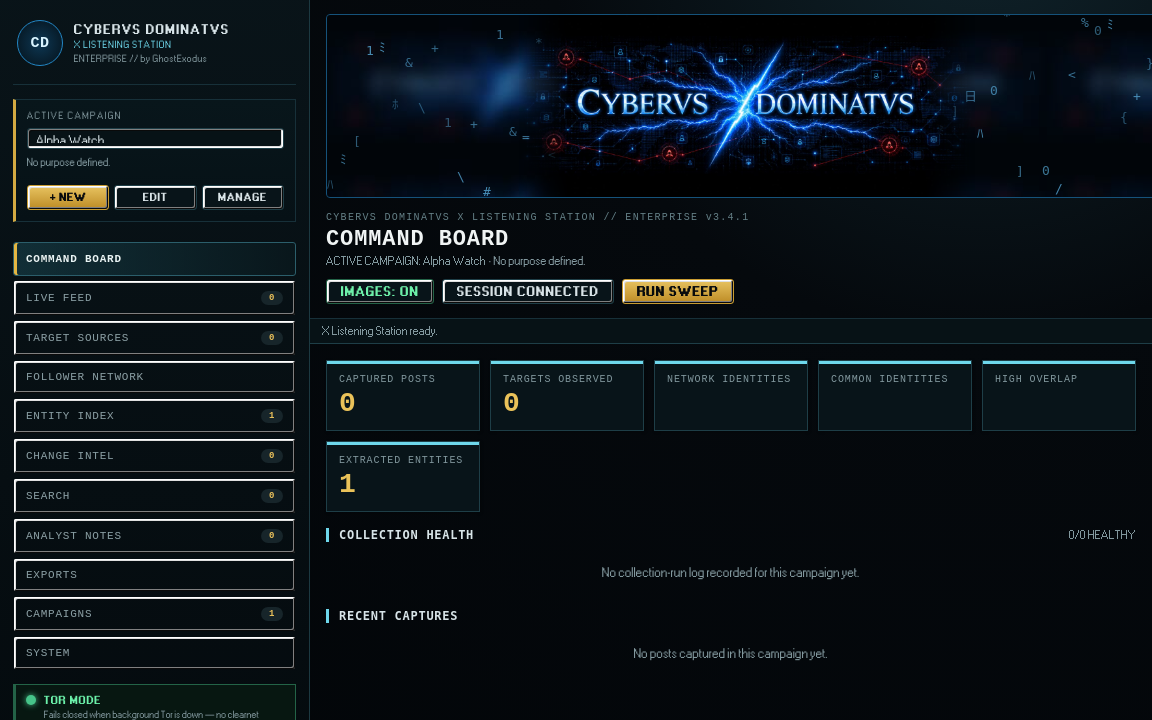
it: X Listening ENTITY INDEX — display pics › FETCH DISPLAY PICS runs the pass and reports what happened
Click the button with class "xls-tab" showing "ENTITY INDEX 1".
click(70, 416)  # box [13,398,296,434]
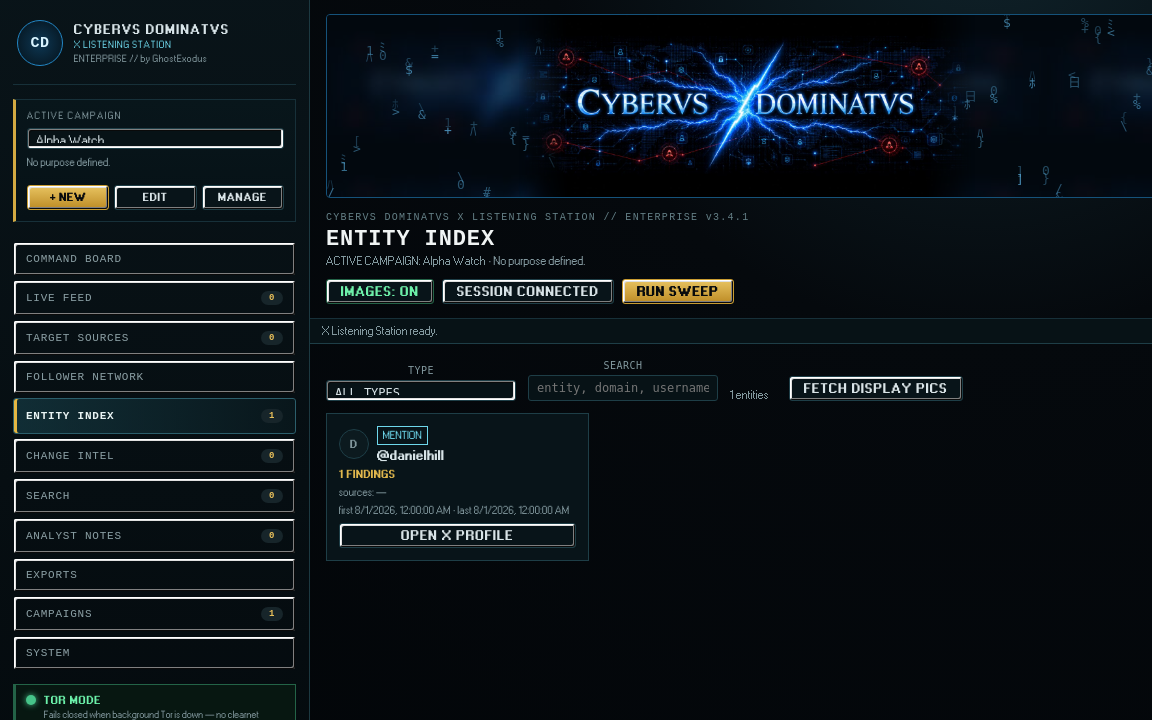
Check: the button "FETCH DISPLAY PICS" is shown
Click the button "FETCH DISPLAY PICS".
click(876, 389)  # box [789,376,963,401]
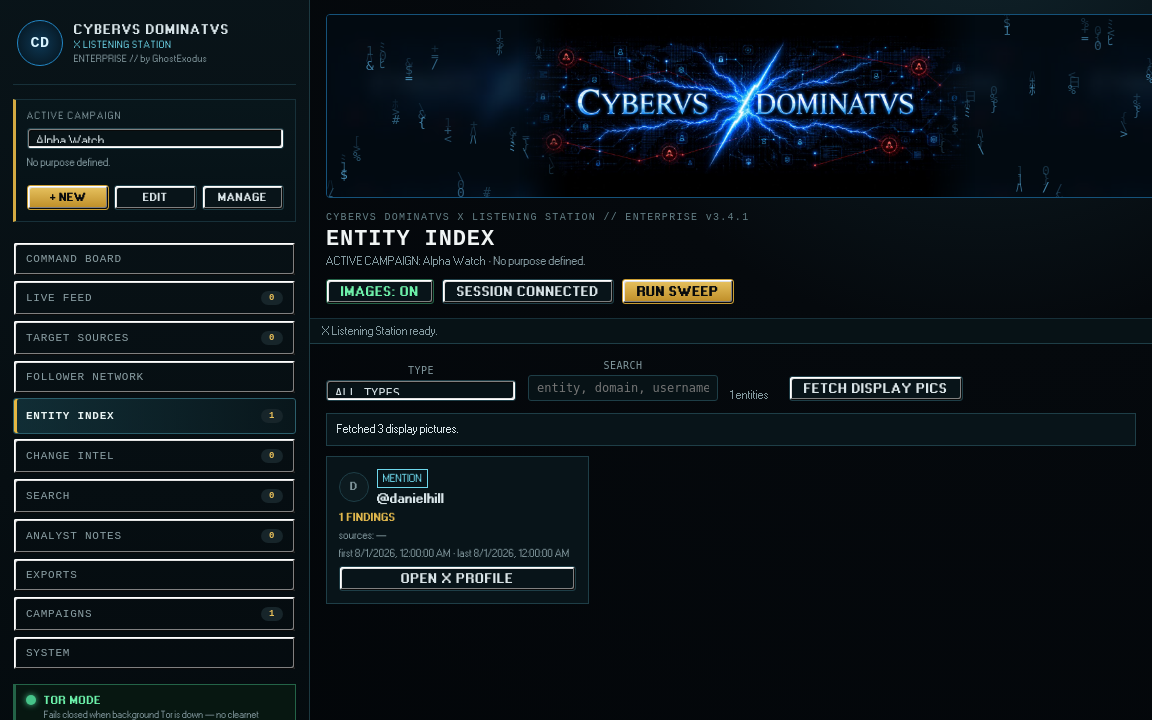
Check: the text "Fetched 3 display pictures" is shown, box [337,423,459,435]
